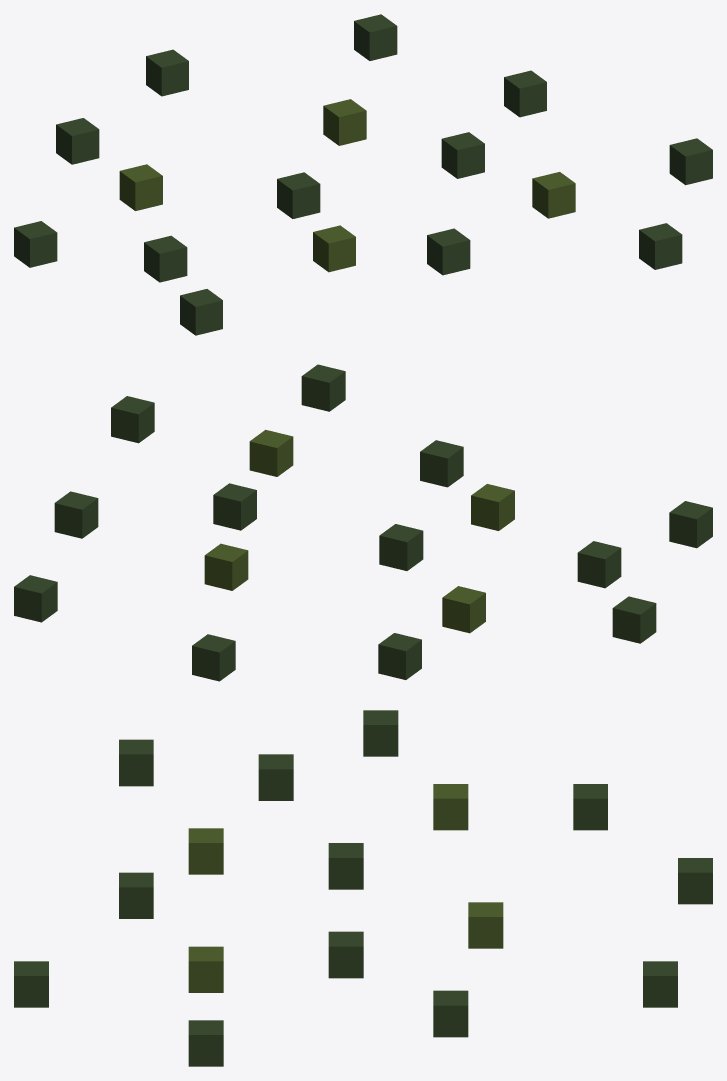
The model's file is brush.obj.
3 views of the same model, one above another, from view 1: azimuth 30°, elevation 25°; view 2: azimuth 150°, elevation 25°; view 3: azimuth 270°, elevation 25° (orthographic). The views are drawn at different scales.
Bounding box in the file's own units: 2.2 × 0.1 × 2.
1 material, 1 textured.
